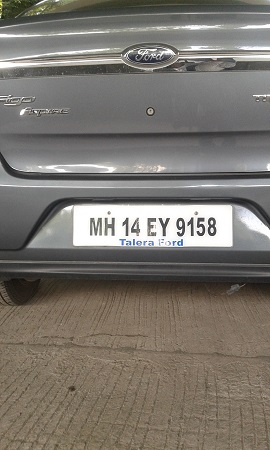licenseplate: (70, 203, 237, 247)
